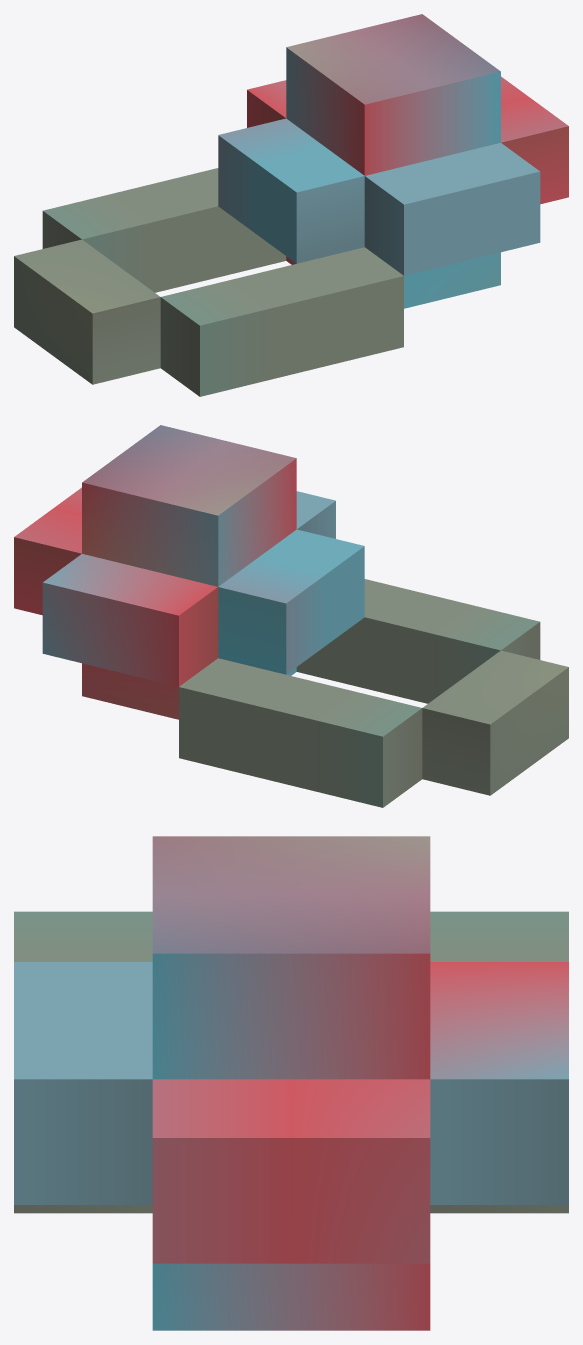
File: BabyRattle_B_04.fbx
3 renders of one model, top to bottom at view 1: azimuth 30°, elevation 25°; view 2: azimuth 150°, elevation 25°; view 3: azimuth 270°, elevation 25°, orthographic. The views are drawn at different scales.
Visible parts, largest first — view 1: BabyRattle_B_04; view 2: BabyRattle_B_04; view 3: BabyRattle_B_04.
Part boxes in pixels (x1,y1,x2,y2): BabyRattle_B_04: [14, 14, 568, 396]; BabyRattle_B_04: [14, 425, 568, 807]; BabyRattle_B_04: [14, 836, 568, 1330].
Size of the model in its own units: 35 by 20 by 15.
1 material, 1 textured.
